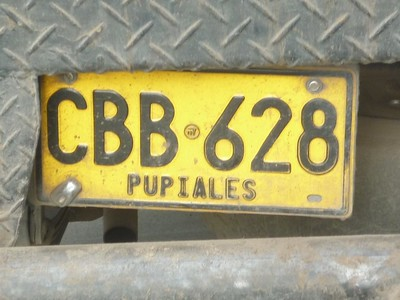placa_carro: (23, 64, 358, 224)
